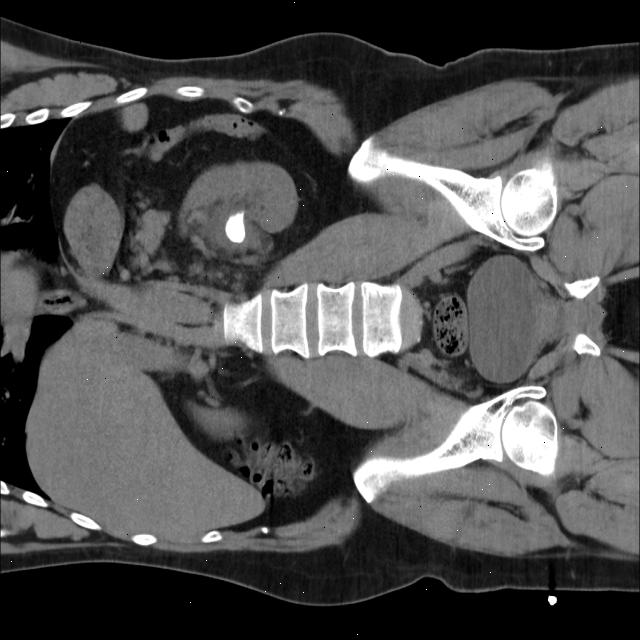kidneystone: (225, 211, 245, 242)
